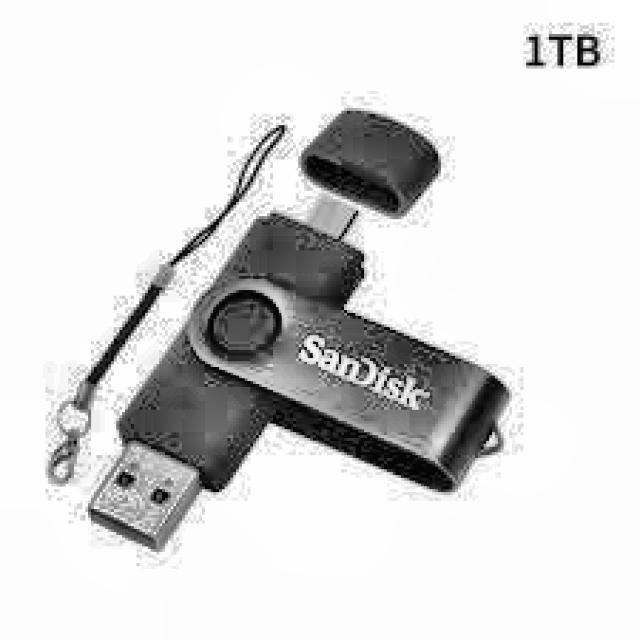Mug: (60, 87, 532, 574)
